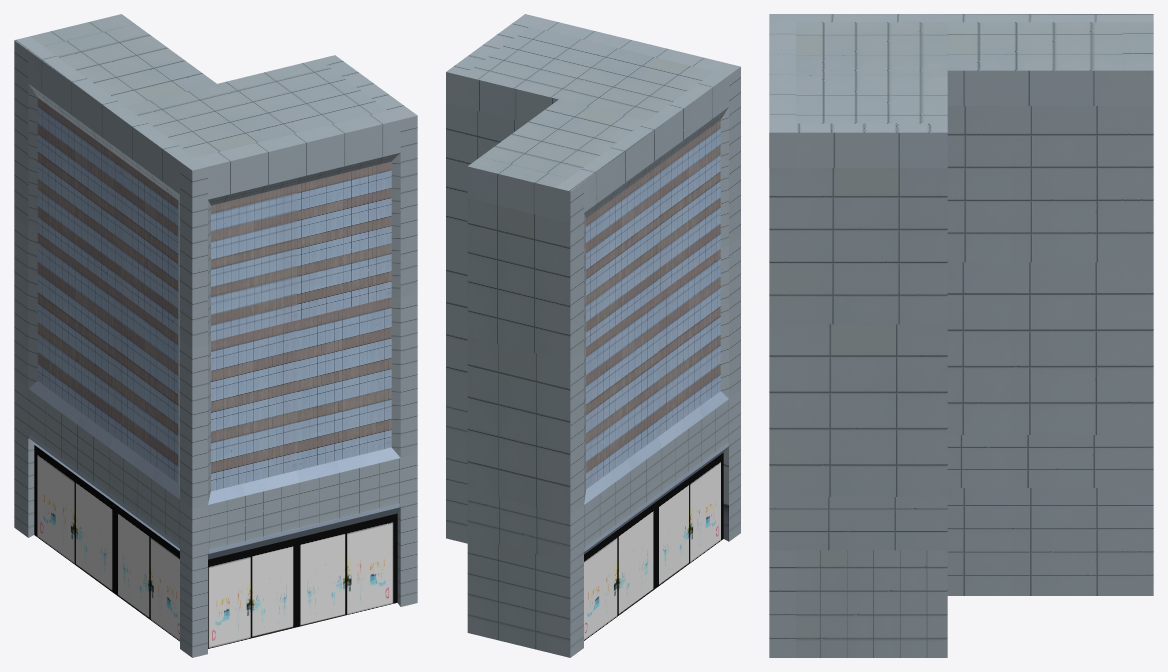
File: house14.FBX
The picture shows the model from 3 angles, left to right: view 1: azimuth 30°, elevation 25°; view 2: azimuth 150°, elevation 25°; view 3: azimuth 270°, elevation 25°; orthographic projection. The views are drawn at different scales.
Parts seen in each view (by area): view 1: Box002; view 2: Box002; view 3: Box002.
Part boxes in pixels (<box>): Box002: <box>14,14,417,657</box>; Box002: <box>446,14,740,657</box>; Box002: <box>769,14,1153,657</box>.
Size of the model in its own units: 94.89 by 196 by 130.
